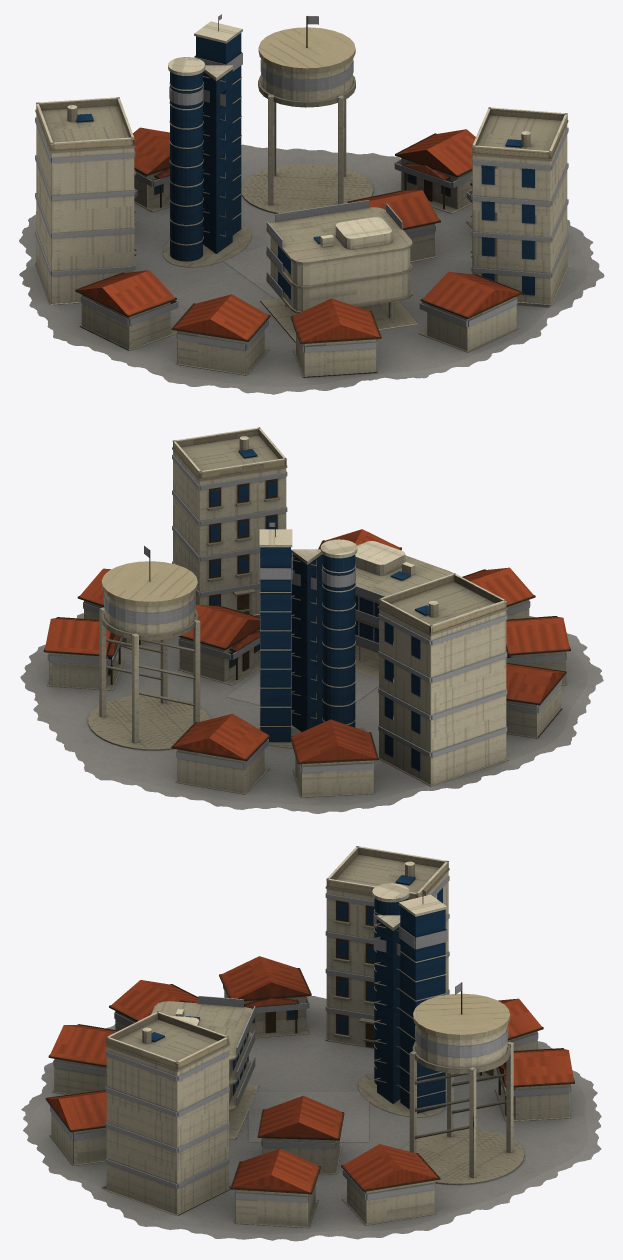
Rendered from modern-town-medium-a-israelite-d517c815.glb.
The picture shows the model from 3 angles, top to bottom: view 1: azimuth 30°, elevation 25°; view 2: azimuth 150°, elevation 25°; view 3: azimuth 270°, elevation 25°; orthographic projection.
Visible parts, largest first — view 1: LOD0; view 2: LOD0; view 3: LOD0.
Part boxes in pixels (x1,y1,x2,y2): LOD0: (19, 14, 604, 394); LOD0: (20, 427, 603, 813); LOD0: (21, 846, 601, 1241).
Size of what is drawn, in the model's own units: 5.97 by 2.4 by 5.94.
3 materials, 3 textured.
